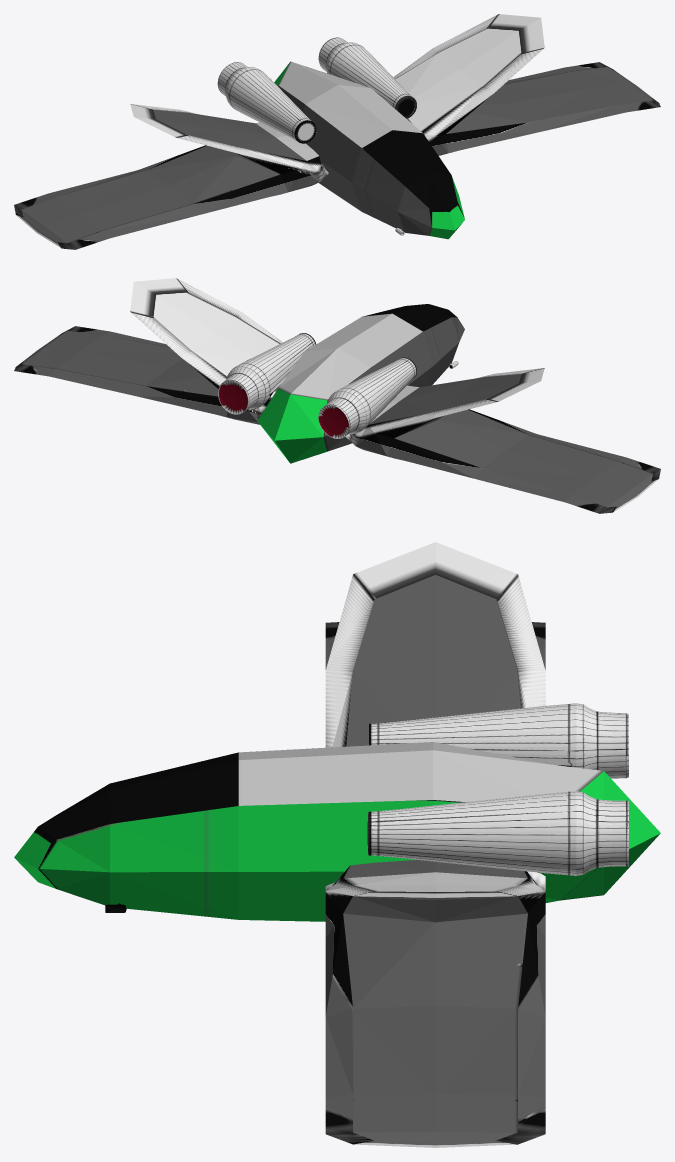
The model's file is ship.obj.
The picture shows the model from 3 angles, top to bottom: view 1: azimuth 30°, elevation 25°; view 2: azimuth 150°, elevation 25°; view 3: azimuth 270°, elevation 25°; orthographic projection. The views are drawn at different scales.
Visible parts, largest first — view 1: Chassis_Cube.002; view 2: Chassis_Cube.002; view 3: Chassis_Cube.002.
Part boxes in pixels (<box>): Chassis_Cube.002: <box>14,14,660,249</box>; Chassis_Cube.002: <box>14,278,660,513</box>; Chassis_Cube.002: <box>14,542,660,1147</box>.
Size of the model in its own units: 7.77 by 1.35 by 4.05.
3 materials, 3 textured.
